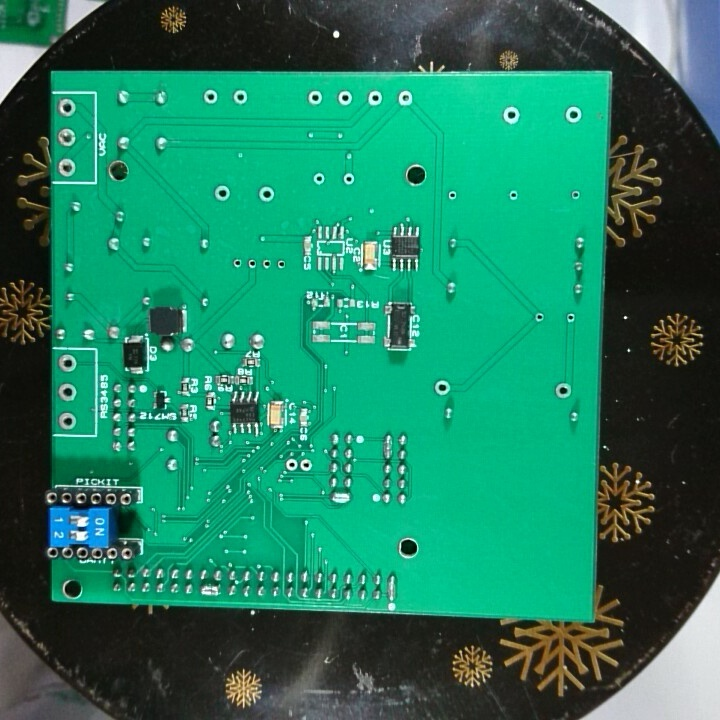F: (55, 95, 79, 120), (54, 380, 79, 404), (499, 104, 523, 128), (55, 155, 78, 180), (54, 352, 79, 375), (254, 183, 277, 206), (562, 103, 584, 126), (552, 380, 575, 402), (55, 126, 77, 149), (56, 409, 78, 432), (210, 182, 232, 205), (200, 86, 222, 108), (335, 87, 356, 109), (229, 88, 251, 109), (303, 88, 325, 108), (365, 88, 385, 109), (395, 87, 414, 109), (433, 377, 452, 398), (340, 169, 357, 189), (298, 455, 314, 476), (310, 170, 328, 188), (283, 455, 299, 475), (505, 186, 522, 203), (531, 309, 548, 325), (274, 256, 289, 274), (563, 309, 578, 326), (244, 255, 258, 273), (229, 255, 243, 273), (260, 256, 274, 273), (568, 187, 583, 202), (445, 187, 459, 203)
P: (326, 488, 354, 507), (385, 569, 398, 604), (198, 582, 222, 599), (381, 430, 394, 461)
